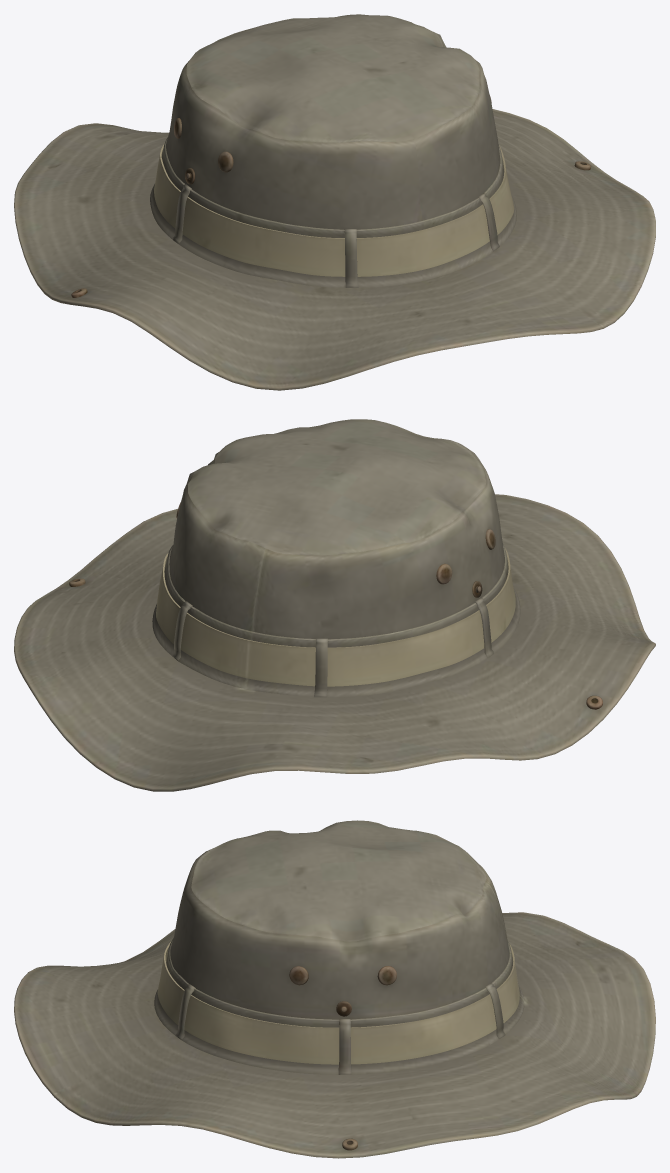
Rendered from fishermans_hat.gltf.
3 renders of one model, top to bottom at view 1: azimuth 30°, elevation 25°; view 2: azimuth 150°, elevation 25°; view 3: azimuth 270°, elevation 25°, orthographic. The views are drawn at different scales.
Parts seen in each view (by area): view 1: fishermans_hat; view 2: fishermans_hat; view 3: fishermans_hat.
Part boxes in pixels (x1,y1,x2,y2): fishermans_hat: [14, 14, 655, 390]; fishermans_hat: [14, 419, 655, 791]; fishermans_hat: [14, 820, 655, 1158].
Size of the model in its own units: 0.3236 by 0.1239 by 0.35.
Materials: 1 (1 with a texture image).
